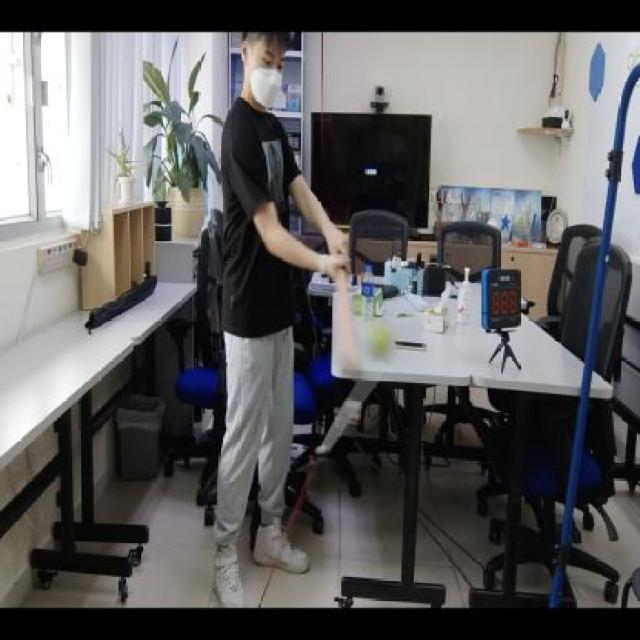baseball: (368, 318, 394, 359)
